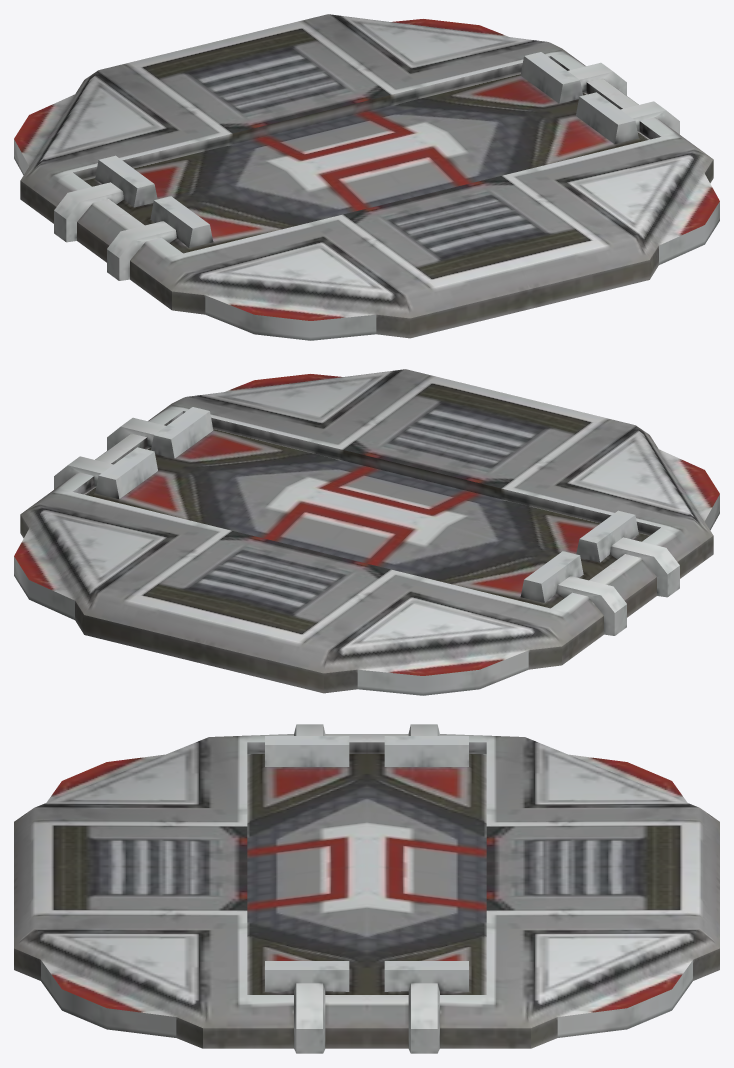
Rendered from Part - Pad 03-Duj3S1Aw.glb.
The picture shows the model from 3 angles, top to bottom: view 1: azimuth 30°, elevation 25°; view 2: azimuth 150°, elevation 25°; view 3: azimuth 270°, elevation 25°; orthographic projection. The views are drawn at different scales.
Visible parts, largest first — view 1: Pad_03; view 2: Pad_03; view 3: Pad_03.
Boxes of the visible parts, x1,y1,x2,y2 form: Pad_03: (14,14,719,340); Pad_03: (14,369,719,695); Pad_03: (14,724,719,1053).
Size of the model in its own units: 2.68 by 0.2269 by 2.7.
Materials: 1 (1 with a texture image).
